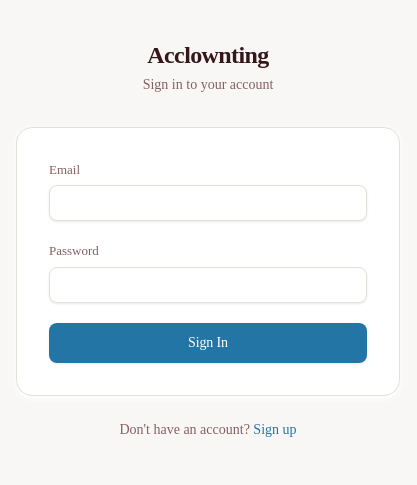
Test case: LoginPage › shows validation error for invalid email
In the field labelled "Email": [208, 203] box [49,185,367,221], type "bademail"
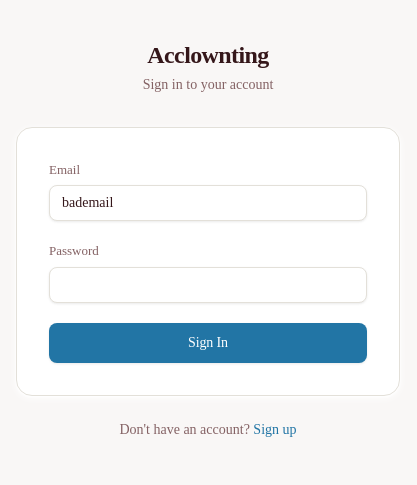
In the password field labelled "Password": [208, 284] box [49,266,367,302], type "password123"
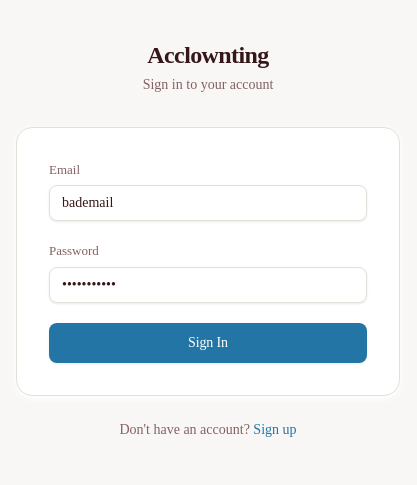
Submit the form "Sign In", box [49,160,367,362]
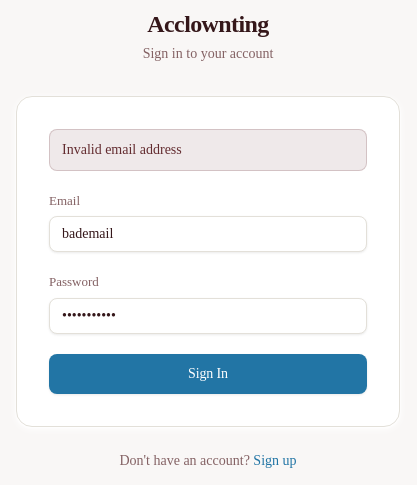
Now the text "Invalid email address" is shown, box [49,128,367,170]
